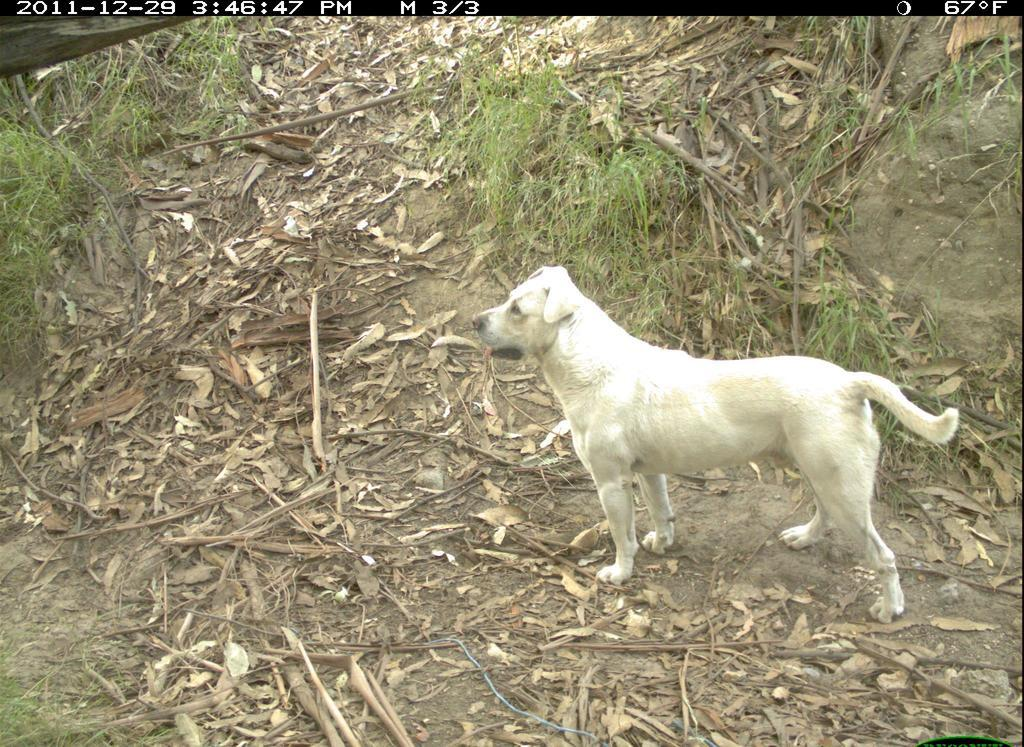dog: (464, 257, 972, 630)
